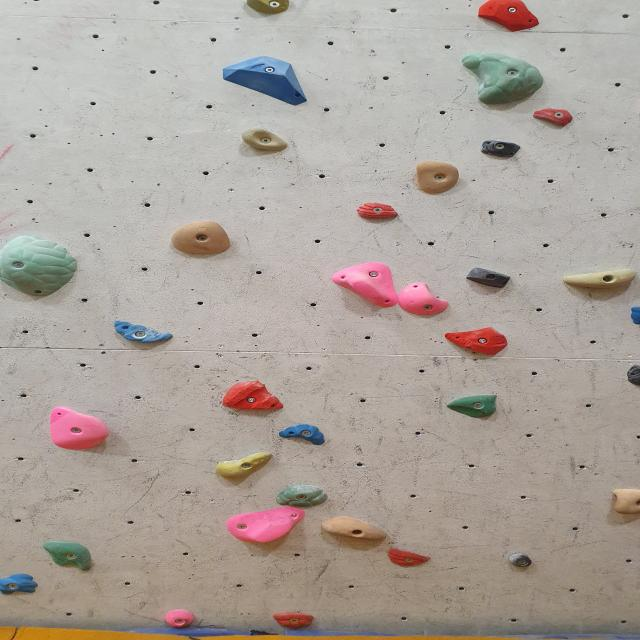Crimp: (217, 381, 289, 414), (474, 0, 540, 32), (448, 327, 510, 357), (110, 319, 172, 346), (386, 546, 435, 568), (276, 484, 326, 505), (0, 573, 40, 595), (279, 426, 325, 443), (532, 108, 570, 128), (355, 203, 397, 221), (272, 611, 315, 627), (164, 610, 194, 628), (625, 366, 640, 388)
Jug: (46, 412, 108, 451), (173, 222, 231, 255), (397, 283, 447, 316), (412, 162, 456, 194), (243, 129, 288, 151), (611, 486, 640, 515), (244, 0, 288, 16)
Pinch: (214, 448, 272, 480), (567, 266, 636, 290), (326, 516, 388, 542), (463, 266, 508, 291), (477, 141, 518, 160), (506, 553, 530, 566)
Sloper: (223, 55, 310, 108), (0, 234, 74, 296), (460, 54, 544, 105), (228, 506, 305, 548), (336, 263, 398, 309), (45, 542, 98, 572), (444, 394, 500, 417), (625, 305, 640, 327)
